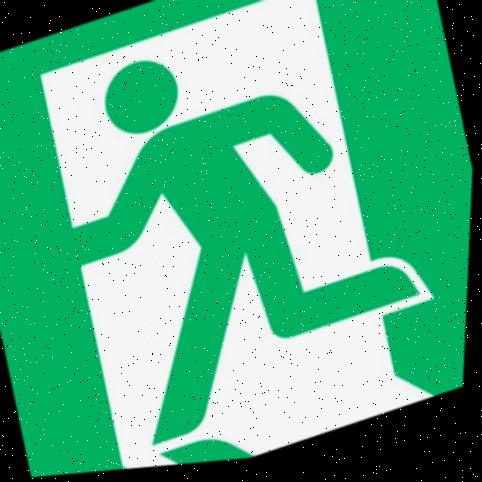emergency_exit: (1, 1, 474, 479)
